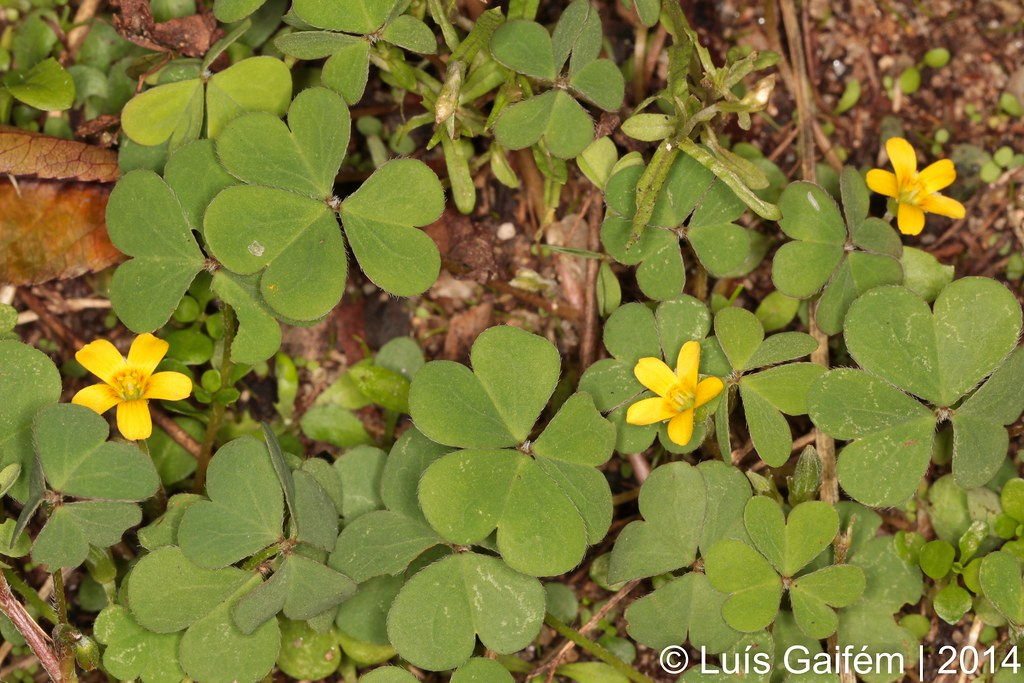oxalis: (81, 72, 1024, 678)
